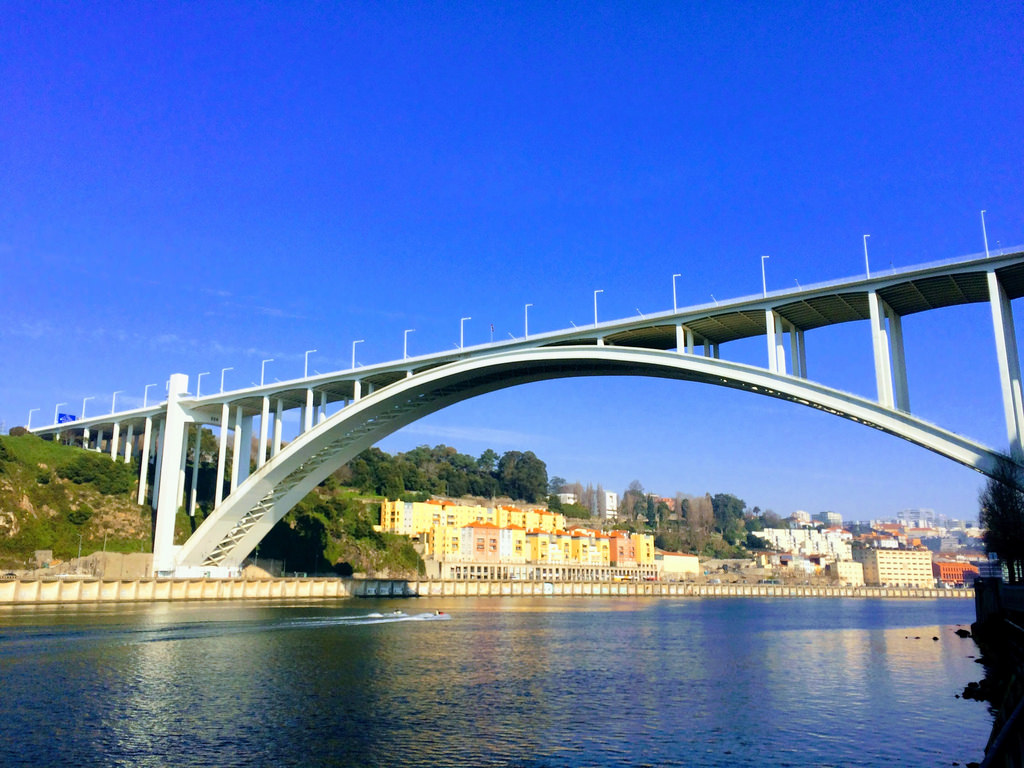arrabida: (27, 244, 1023, 579)
